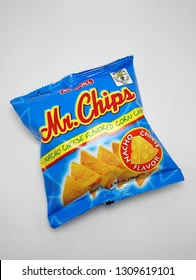non-toxic_waste: (12, 107, 129, 242)
